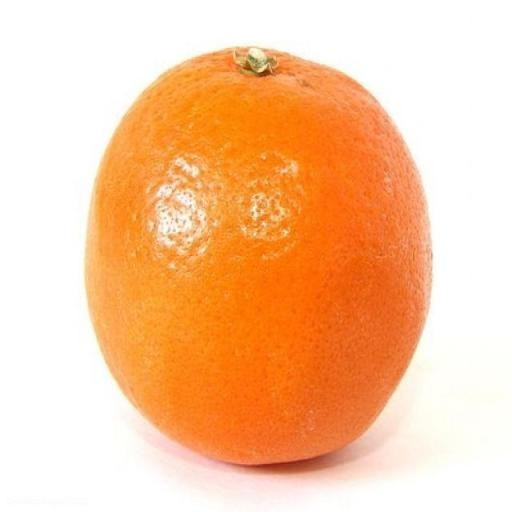fruit: (87, 49, 431, 463)
